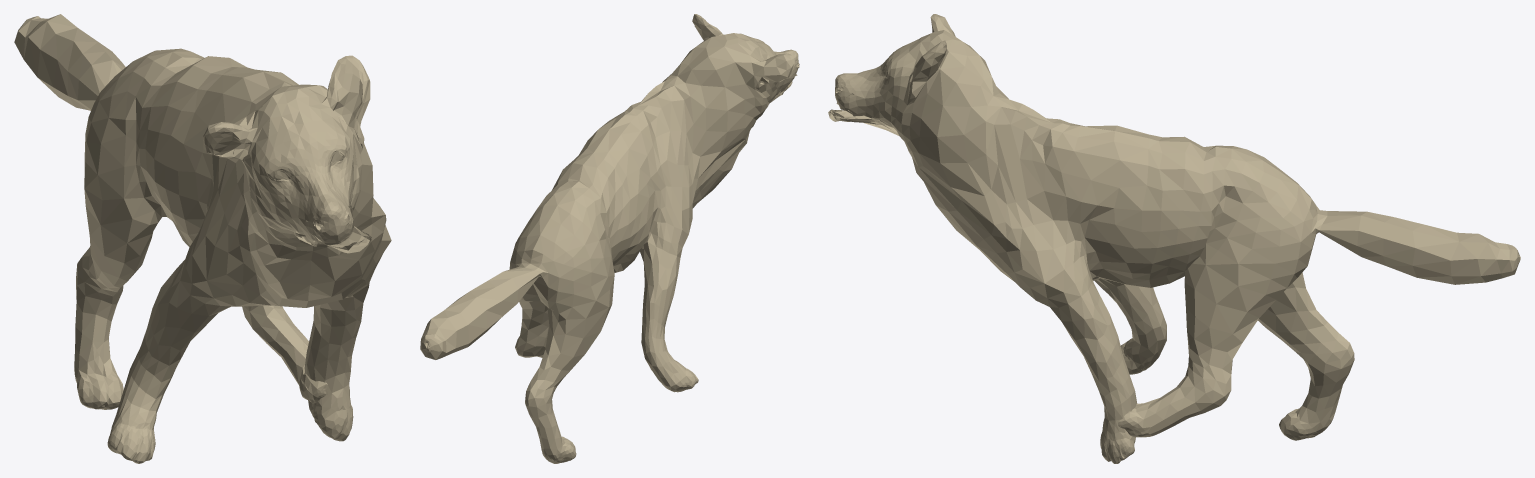
3 renders of one model, left to right at view 1: azimuth 30°, elevation 25°; view 2: azimuth 150°, elevation 25°; view 3: azimuth 270°, elevation 25°, orthographic. The views are drawn at different scales.
Visible parts, largest first — view 1: world; view 2: world; view 3: world.
Boxes of the visible parts, x1,y1,x2,y2 form: world: (14, 14, 391, 463); world: (420, 14, 799, 463); world: (828, 14, 1520, 463).
Bounding box in the file's own units: 0.4559 × 0.8554 × 1.34.
